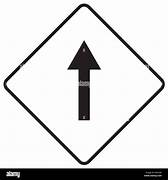forward: (4, 5, 166, 164)
